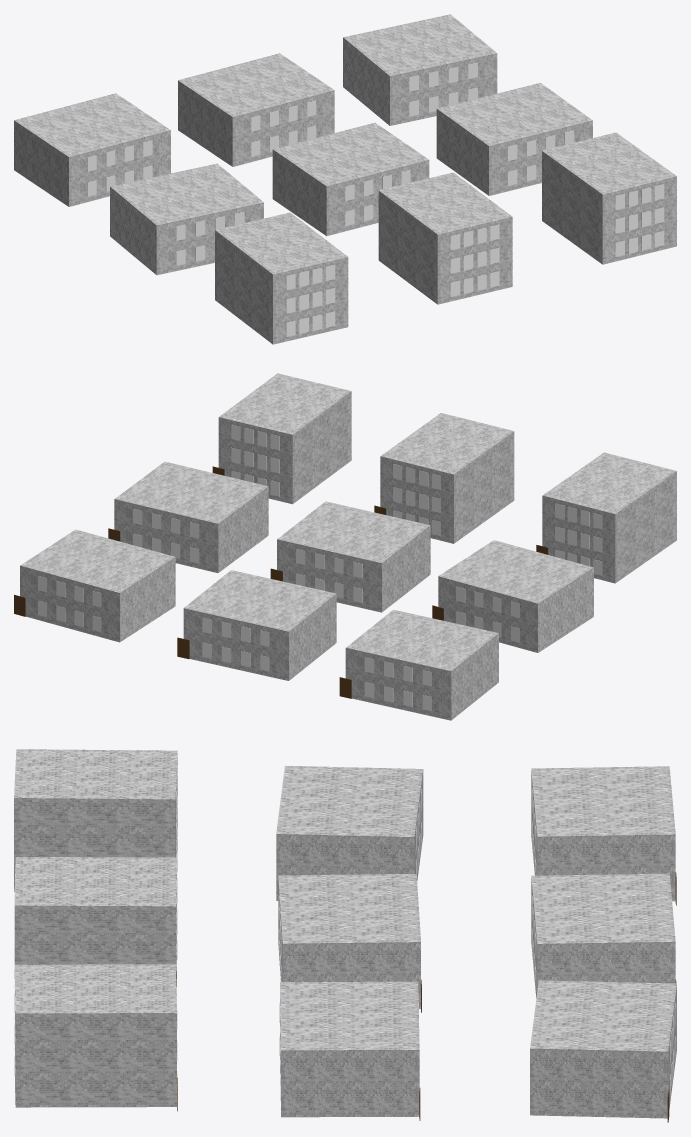
Rendered from bld_mlmvge8x_5y01tjb.glb.
The picture shows the model from 3 angles, top to bottom: view 1: azimuth 30°, elevation 25°; view 2: azimuth 150°, elevation 25°; view 3: azimuth 270°, elevation 25°; orthographic projection. The views are drawn at different scales.
Parts seen in each view (by area): view 1: building-building-1771107123909-9, building-building-1771107123909-10, building-building-1771107123909-8, building-building-1771107123909-1, building-building-1771107123909-0, building-building-1771107123909-2, building-building-1771107123909-5, building-building-1771107123909-6, building-building-1771107123909-4; view 2: building-building-1771107123909-2, building-building-1771107123909-1, building-building-1771107123909-0, building-building-1771107123909-8, building-building-1771107123909-9, building-building-1771107123909-10, building-building-1771107123909-4, building-building-1771107123909-6, building-building-1771107123909-5; view 3: building-building-1771107123909-10, building-building-1771107123909-2, building-building-1771107123909-6, building-building-1771107123909-8, building-building-1771107123909-9, building-building-1771107123909-4, building-building-1771107123909-0, building-building-1771107123909-1, building-building-1771107123909-5.
Part boxes in pixels (x1,y1,x2,y2): building-building-1771107123909-9: (378,172,512,304); building-building-1771107123909-10: (542,132,676,264); building-building-1771107123909-8: (215,212,348,344); building-building-1771107123909-1: (178,53,334,166); building-building-1771107123909-0: (14,93,170,206); building-building-1771107123909-2: (343,14,497,125); building-building-1771107123909-5: (272,122,429,236); building-building-1771107123909-6: (436,83,592,195); building-building-1771107123909-4: (110,163,263,275); building-building-1771107123909-2: (14,529,175,642); building-building-1771107123909-1: (177,570,336,680); building-building-1771107123909-0: (339,609,498,720); building-building-1771107123909-8: (536,452,676,583); building-building-1771107123909-9: (374,413,514,543); building-building-1771107123909-10: (212,373,351,504); building-building-1771107123909-4: (432,540,593,652); building-building-1771107123909-6: (108,461,268,572); building-building-1771107123909-5: (270,501,430,612); building-building-1771107123909-10: (14,964,177,1111); building-building-1771107123909-2: (530,980,676,1122); building-building-1771107123909-6: (280,981,420,1120); building-building-1771107123909-8: (14,749,177,891); building-building-1771107123909-9: (14,857,177,986); building-building-1771107123909-4: (276,765,423,900); building-building-1771107123909-0: (531,766,676,905); building-building-1771107123909-1: (531,873,676,997); building-building-1771107123909-5: (278,874,421,1012).
Bounding box in the file's own units: 59.43 × 9.03 × 57.47.
Materials: 45 (9 with a texture image).
